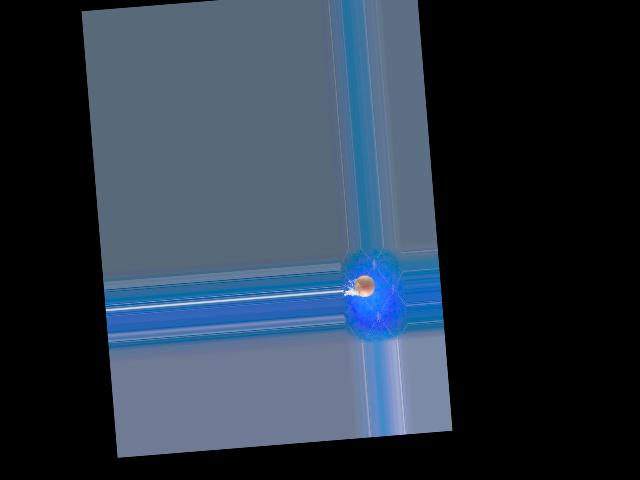tomato: (354, 274, 375, 297)
